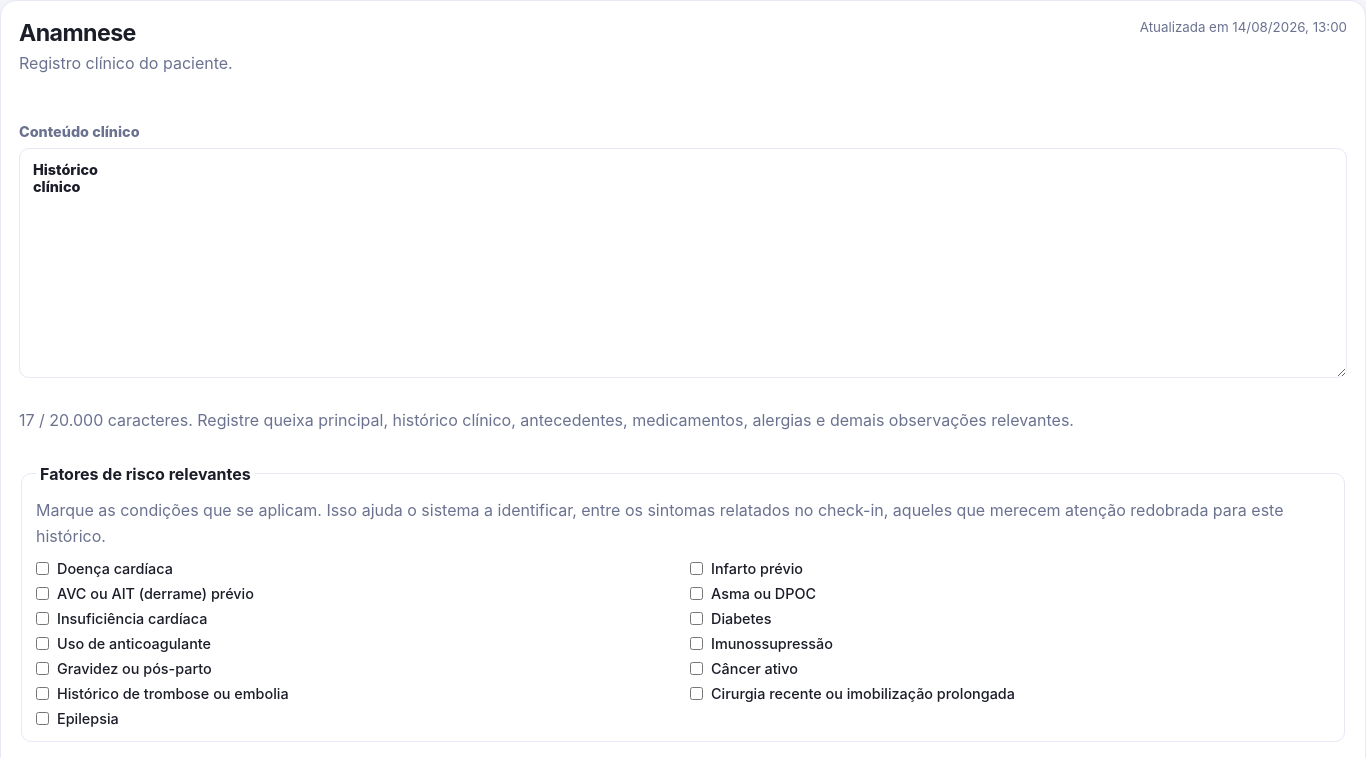
Test case: anamnese do profissional › carrega e atualiza uma anamnese existente com PUT
This screenshot has width=1366, height=758.
Replace the text in the text box labelled "Conteúdo clínico" with "Conteúdo atualizado" at (683, 263), box [19, 148, 1347, 378]
(page scrolled)
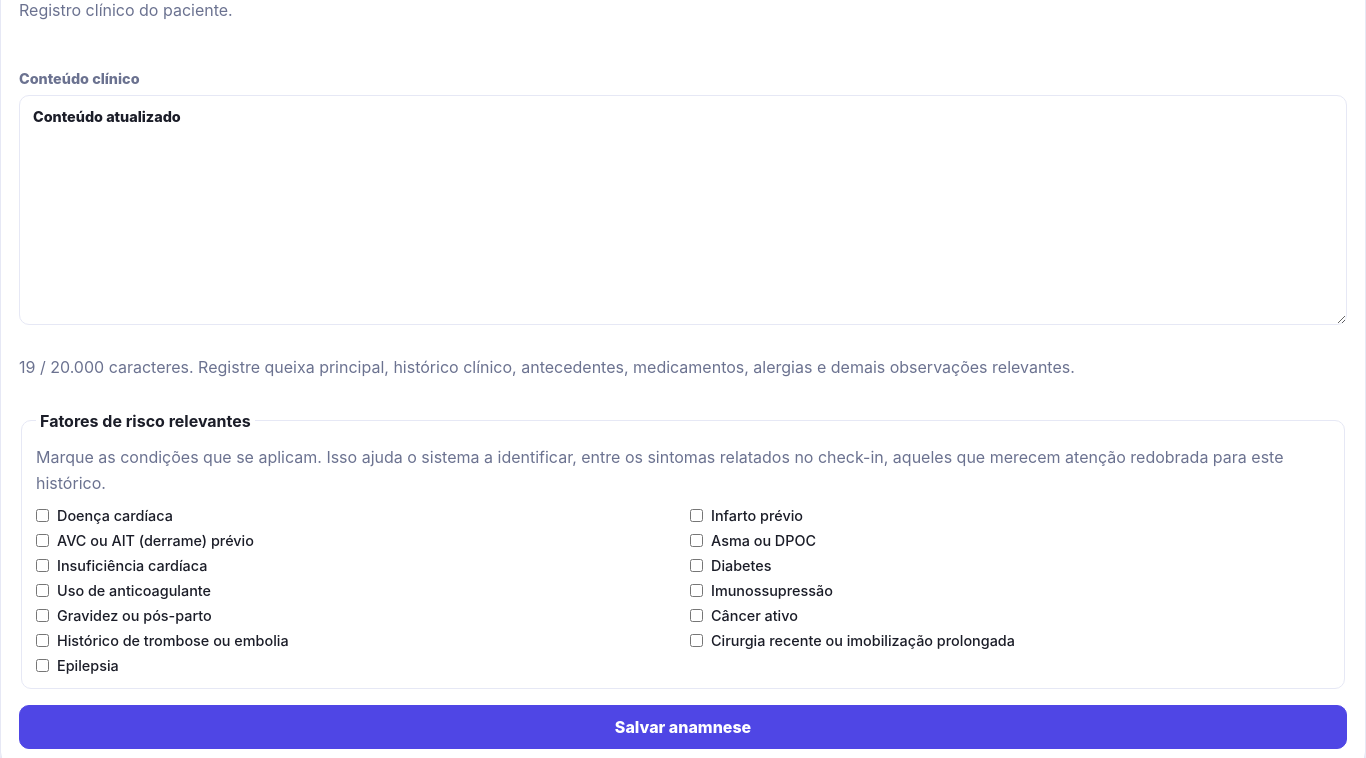
Click the button "Salvar anamnese".
click(683, 727)  # box [19, 705, 1347, 749]
(page scrolled)
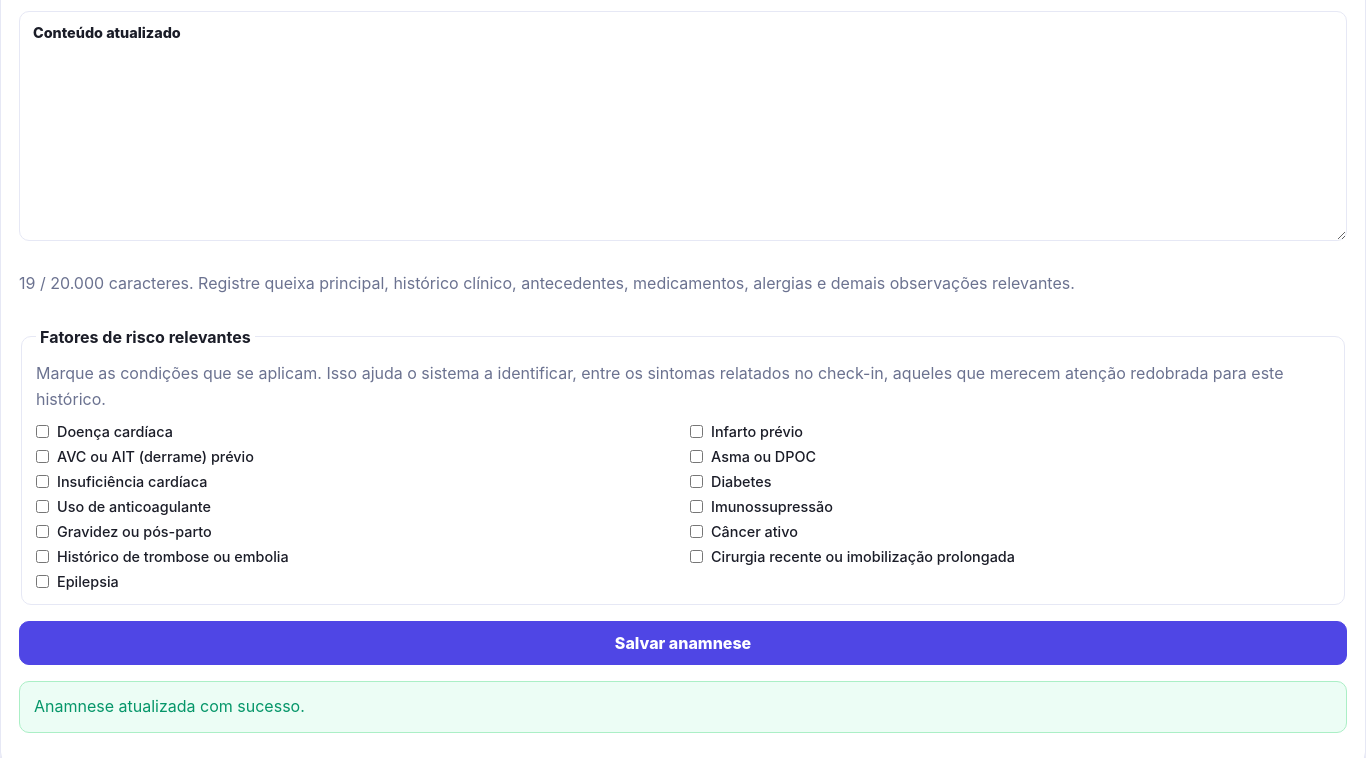
expect the text "Anamnese atualizada com sucesso." is shown: met, box [19, 681, 1347, 732]
